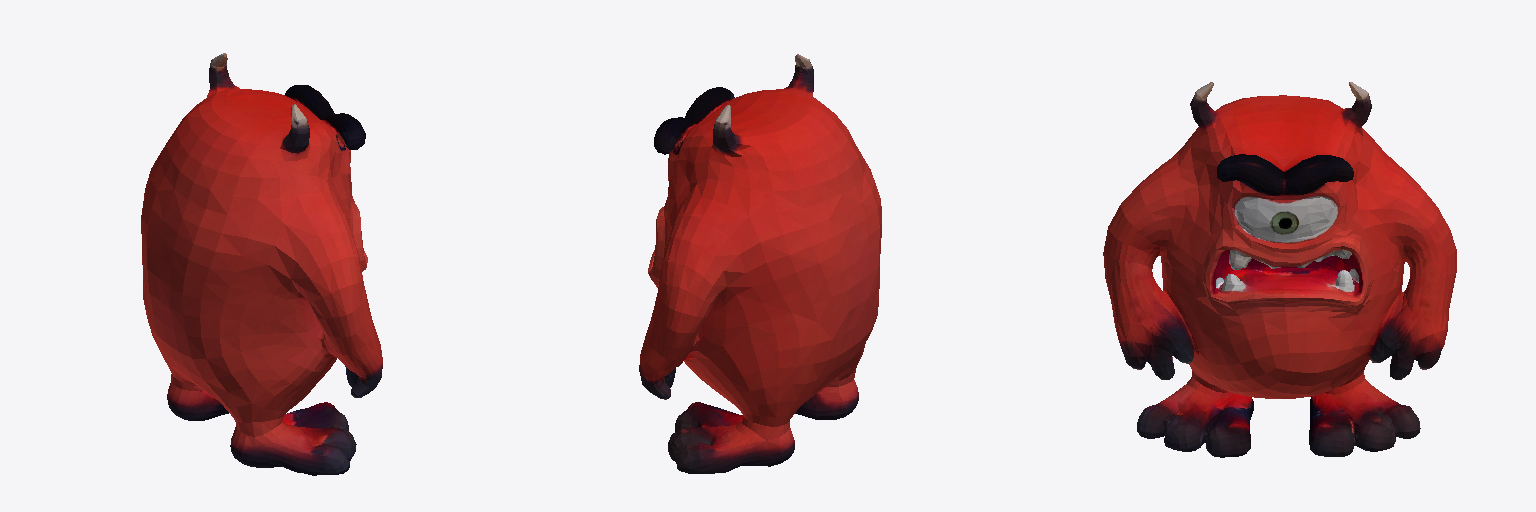
3 views of the same model, side by side, from view 1: azimuth 30°, elevation 25°; view 2: azimuth 150°, elevation 25°; view 3: azimuth 270°, elevation 25° (orthographic).
Parts seen in each view (by area): view 1: tripo_node_ed49ba86-e93d-4830-9cb1-[number redacted]da3; view 2: tripo_node_ed49ba86-e93d-4830-9cb1-[number redacted]da3; view 3: tripo_node_ed49ba86-e93d-4830-9cb1-[number redacted]da3.
Boxes of the visible parts, box(x1,y1,x2,y2) form: tripo_node_ed49ba86-e93d-4830-9cb1-[number redacted]da3: box(141, 53, 382, 475); tripo_node_ed49ba86-e93d-4830-9cb1-[number redacted]da3: box(639, 54, 881, 473); tripo_node_ed49ba86-e93d-4830-9cb1-[number redacted]da3: box(1103, 82, 1456, 457).
Bounding box in the file's own units: 0.5291 × 0.9439 × 0.8589.
Materials: 1 (1 with a texture image).